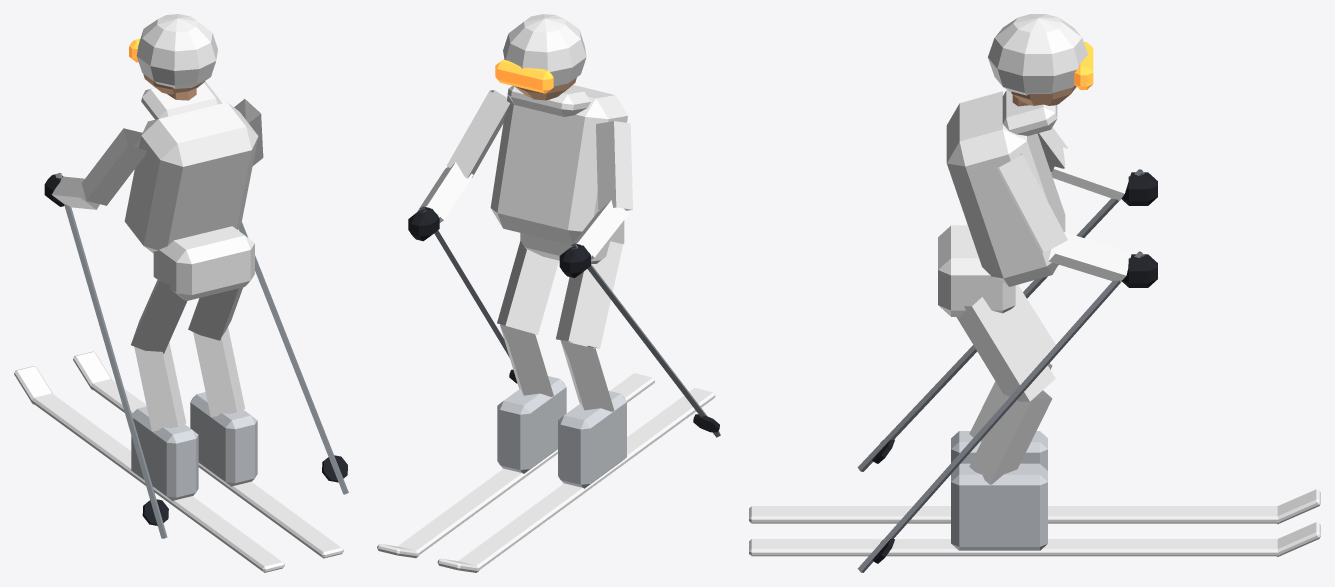
Rendered from skier.glb.
3 views of the same model, side by side, from view 1: azimuth 30°, elevation 25°; view 2: azimuth 150°, elevation 25°; view 3: azimuth 270°, elevation 25° (orthographic). The views are drawn at different scales.
Visible parts, largest first — view 1: Skier; view 2: Skier; view 3: Skier.
Part boxes in pixels (x1,y1,x2,y2): Skier: [14, 14, 348, 572]; Skier: [377, 14, 720, 572]; Skier: [749, 14, 1320, 572].
Size of the model in its own units: 0.83 by 1.77 by 1.77.
